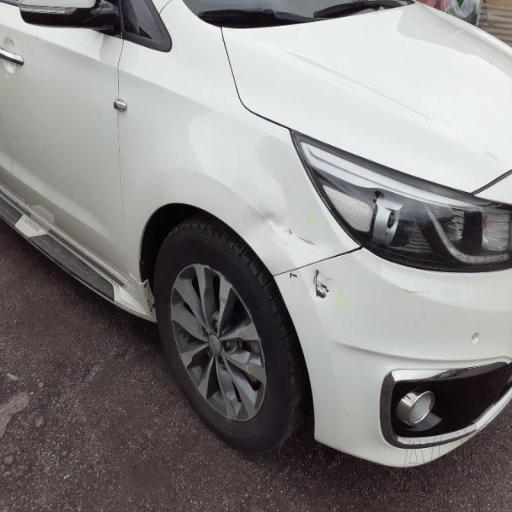dent: (212, 140, 364, 325)
